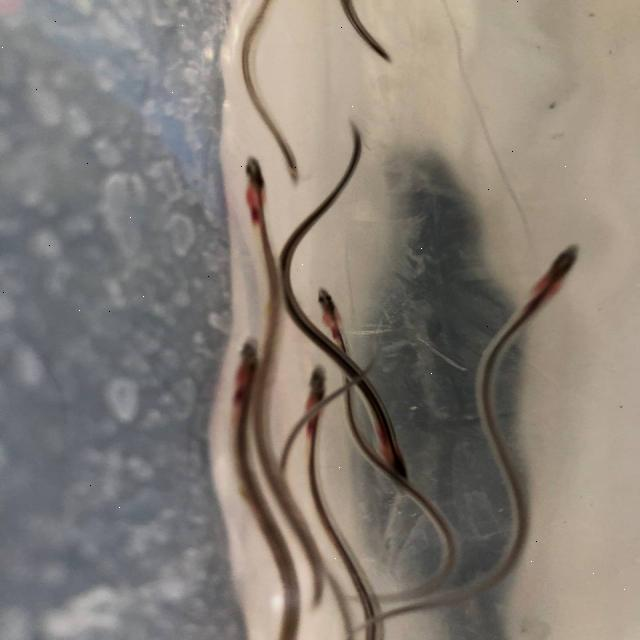glass_eel: (526, 241, 588, 299), (226, 151, 273, 219), (369, 432, 421, 486), (298, 361, 340, 424), (228, 340, 268, 406), (309, 282, 352, 340)
